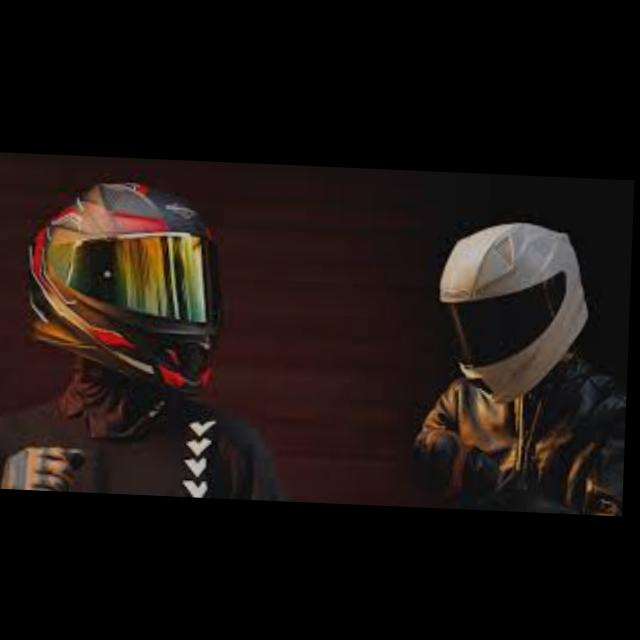motorcycle-helmets: (28, 183, 218, 388), (440, 223, 586, 400)
